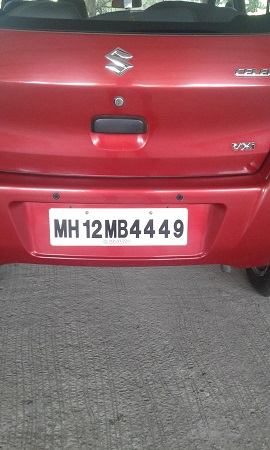licenseplate: (47, 204, 197, 248)
